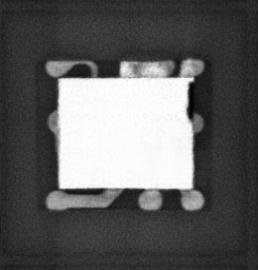DIE_BROKEN: (185, 79, 197, 122)
